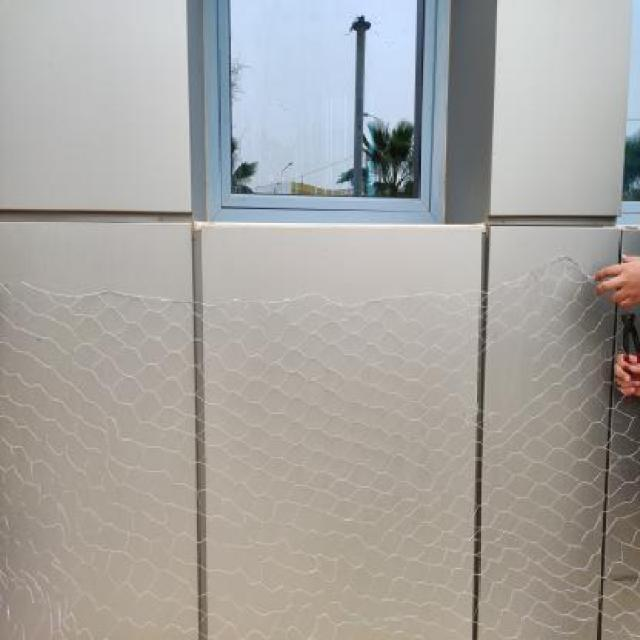fence line: (450, 329, 552, 431), (575, 260, 626, 283)
